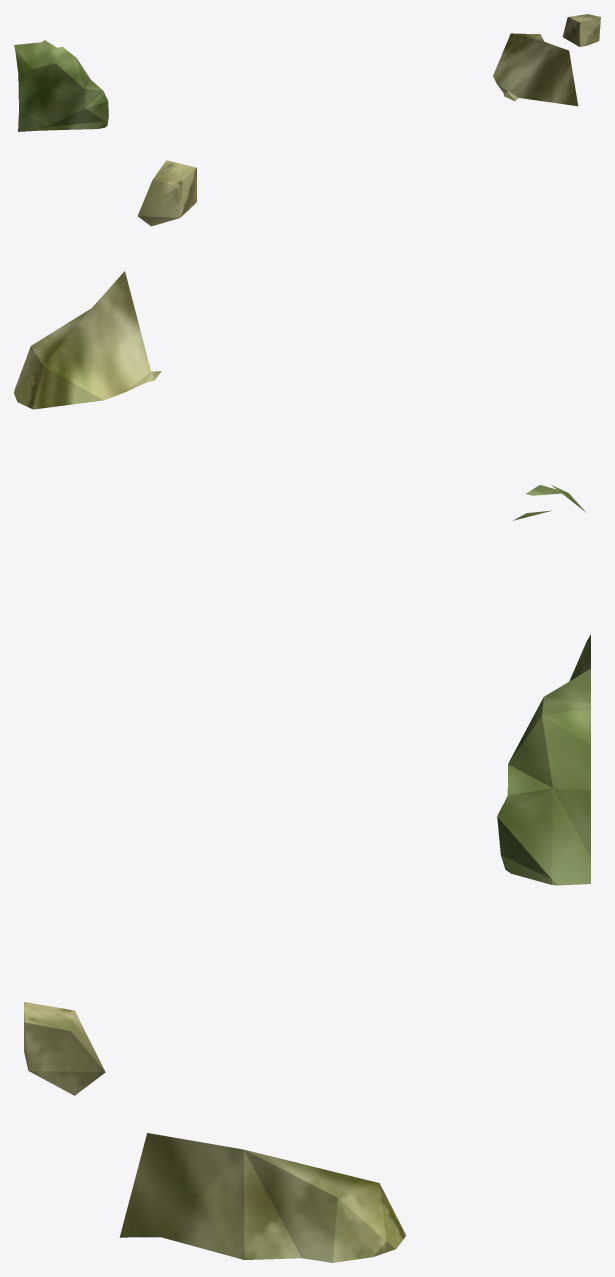
3 views of the same model, one above another, from view 1: azimuth 30°, elevation 25°; view 2: azimuth 150°, elevation 25°; view 3: azimuth 270°, elevation 25° (orthographic). The views are drawn at different scales.
Size of the model in its own units: 1.95 by 0.422 by 1.01.
Materials: 1 (1 with a texture image).
